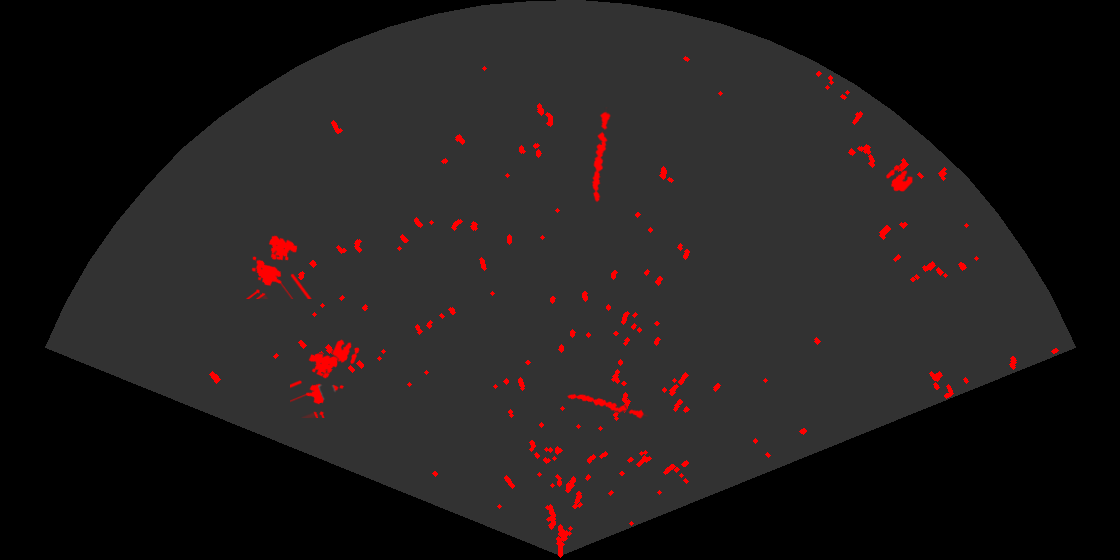ball: (884, 164, 915, 193), (331, 338, 361, 366)
cage: (244, 234, 313, 299), (290, 352, 346, 418)
chain: (565, 392, 649, 420), (590, 107, 612, 203)
